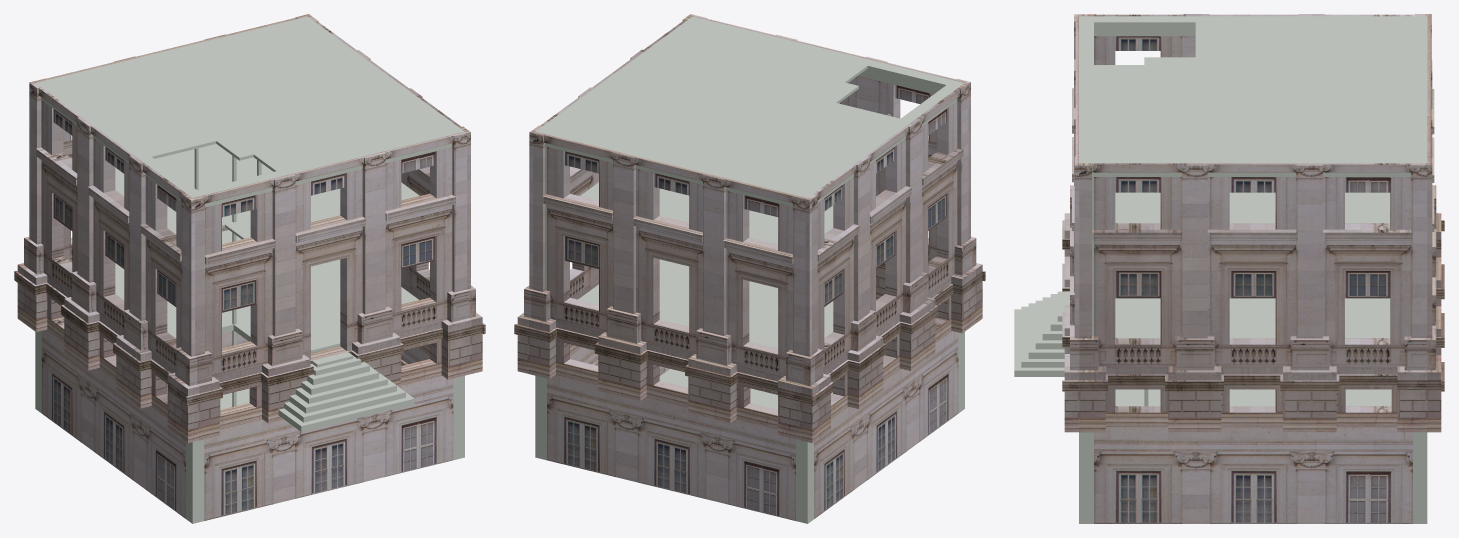
File: BagBuilding4_200.fbx
The picture shows the model from 3 angles, left to right: view 1: azimuth 30°, elevation 25°; view 2: azimuth 150°, elevation 25°; view 3: azimuth 270°, elevation 25°; orthographic projection. The views are drawn at different scales.
Visible parts, largest first — view 1: mainA200, roofA200, floorsA200, floorsB200; view 2: mainA200, roofA200, floorsA200; view 3: mainA200, roofA200, floorsA200, floorsB200.
Boxes of the visible parts, box(x1,y1,x2,y2) form: mainA200: box(14, 14, 485, 520); roofA200: box(35, 16, 464, 523); floorsA200: box(115, 144, 419, 409); floorsB200: box(278, 351, 414, 431); mainA200: box(514, 14, 985, 520); roofA200: box(535, 16, 964, 523); floorsA200: box(578, 103, 890, 409); mainA200: box(1062, 14, 1444, 523); roofA200: box(1079, 16, 1427, 523); floorsA200: box(1115, 192, 1391, 406); floorsB200: box(1014, 291, 1069, 376).
Size of the model in its own units: 18.44 by 19.22 by 20.78.
